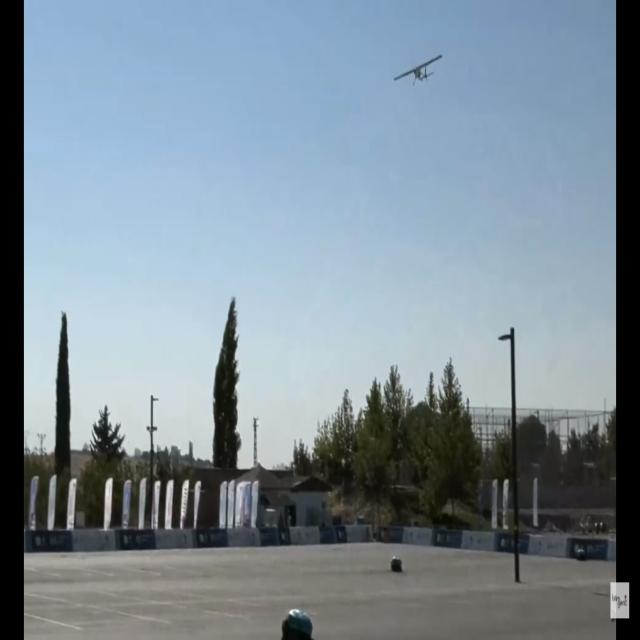iha: (393, 0, 443, 16)
